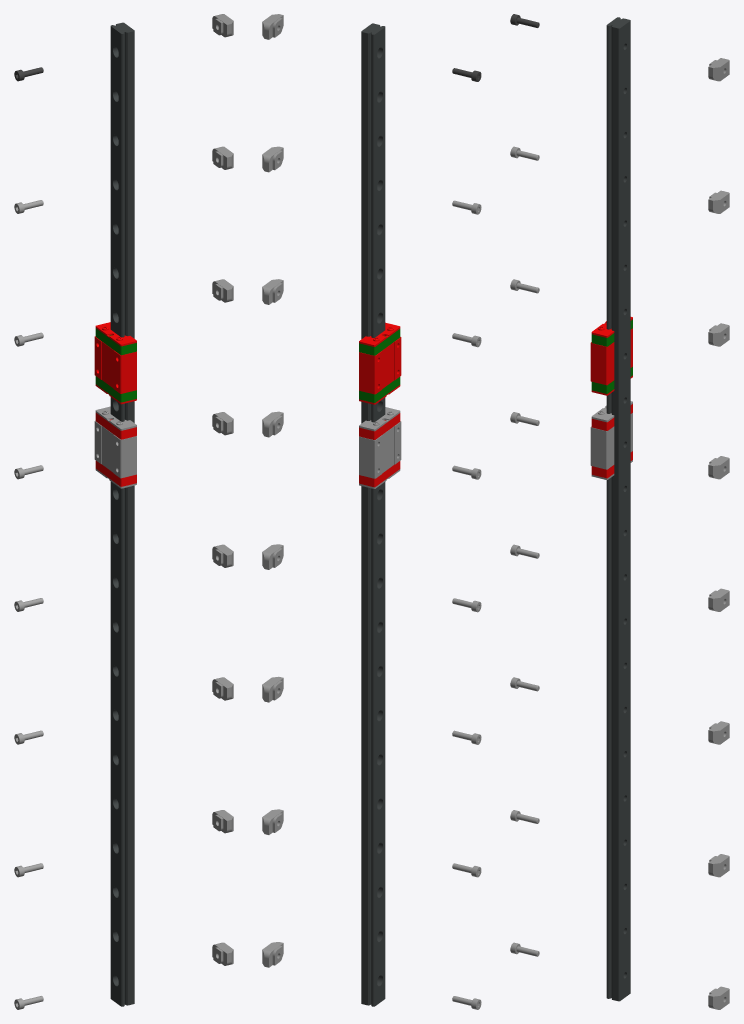
3 views of the same model, side by side, from view 1: azimuth 30°, elevation 25°; view 2: azimuth 150°, elevation 25°; view 3: azimuth 330°, elevation 25° (orthographic).
Parts seen in each view (by area): view 1: Body1 (×3); view 2: Body1 (×3); view 3: Body1 (×3).
Boxes of the visible parts, bbox=[...] form: Body1 (×3): bbox=[94, 22, 136, 1006]; Body1 (×3): bbox=[359, 23, 401, 1006]; Body1 (×3): bbox=[590, 17, 632, 1001].
Size of the model in its own units: 125 by 550 by 27.
